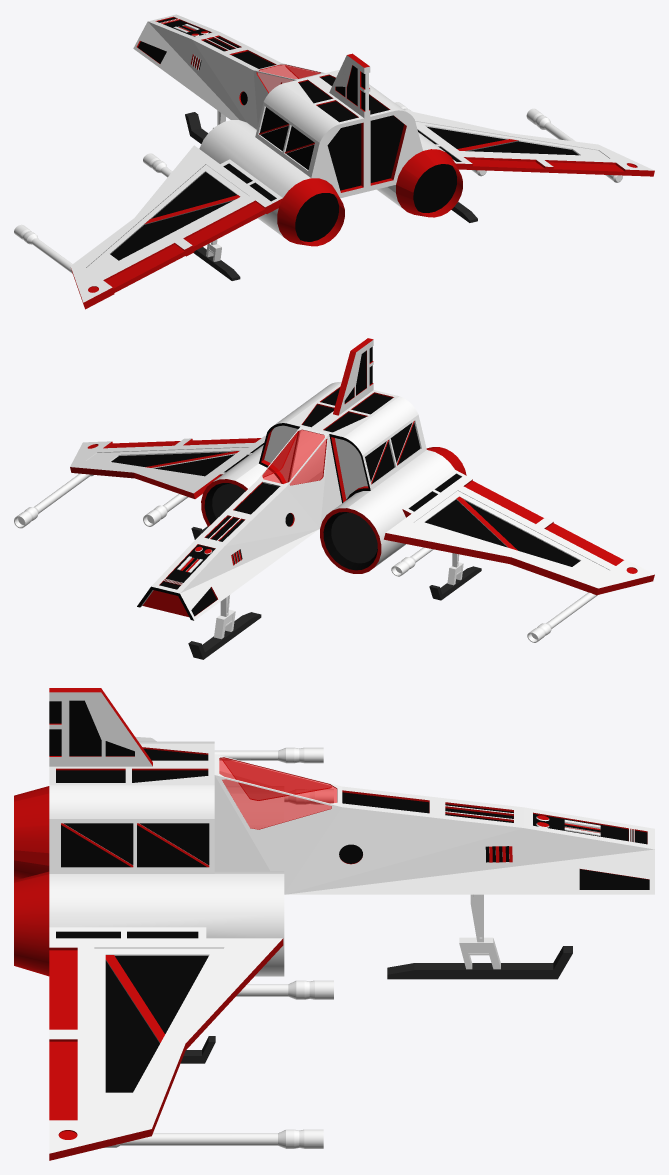
File: mainShipRaw.glb
3 views of the same model, one above another, from view 1: azimuth 30°, elevation 25°; view 2: azimuth 150°, elevation 25°; view 3: azimuth 270°, elevation 25° (orthographic). The views are drawn at different scales.
Visible parts, largest first — view 1: root; view 2: root; view 3: root.
Boxes of the visible parts, x1,y1,x2,y2 form: root: (14,14,654,309); root: (14,338,654,659); root: (14,688,654,1160).
Bounding box in the file's own units: 9.58 × 3.1 × 6.31.
